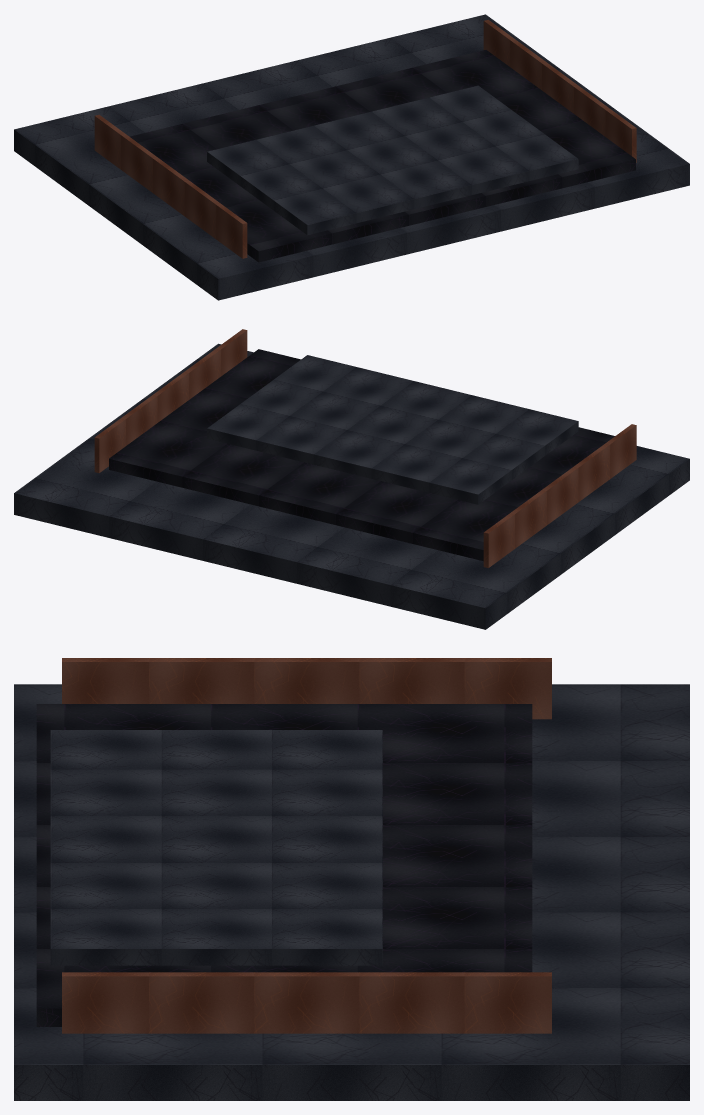
The model's file is blackstone-dais.glb.
3 views of the same model, one above another, from view 1: azimuth 30°, elevation 25°; view 2: azimuth 150°, elevation 25°; view 3: azimuth 270°, elevation 25° (orthographic). The views are drawn at different scales.
Visible parts, largest first — view 1: Dais_Lower, Dais_Upper, Dais_Middle, Dais_BronzeRail_-1, Dais_BronzeRail_1; view 2: Dais_Lower, Dais_Upper, Dais_Middle, Dais_BronzeRail_-1, Dais_BronzeRail_1; view 3: Dais_Lower, Dais_Upper, Dais_Middle, Dais_BronzeRail_1, Dais_BronzeRail_-1.
Part boxes in pixels (x1,y1,x2,y2): Dais_Lower: (14, 14, 689, 300); Dais_Upper: (207, 85, 578, 235); Dais_Middle: (130, 50, 635, 262); Dais_BronzeRail_-1: (94, 114, 247, 258); Dais_BronzeRail_1: (483, 19, 636, 162); Dais_Lower: (14, 343, 689, 629); Dais_Upper: (207, 355, 578, 504); Dais_Middle: (109, 349, 614, 561); Dais_BronzeRail_-1: (483, 424, 636, 568); Dais_BronzeRail_1: (94, 329, 247, 473); Dais_Lower: (14, 684, 689, 1100); Dais_Upper: (50, 730, 382, 965); Dais_Middle: (36, 704, 532, 1026); Dais_BronzeRail_1: (62, 972, 551, 1033); Dais_BronzeRail_-1: (62, 658, 551, 719).
Bounding box in the file's own units: 16 × 1.82 × 12.
Materials: 3 (3 with a texture image).
